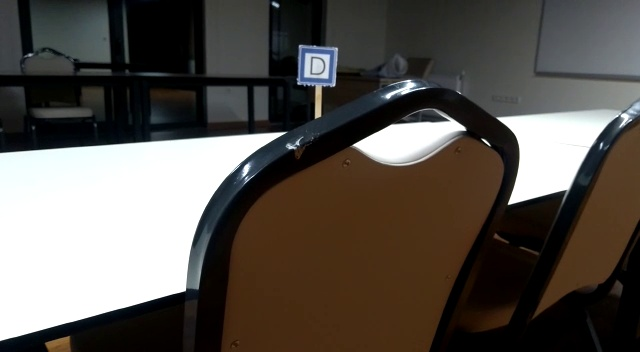durak: (297, 46, 338, 85)
